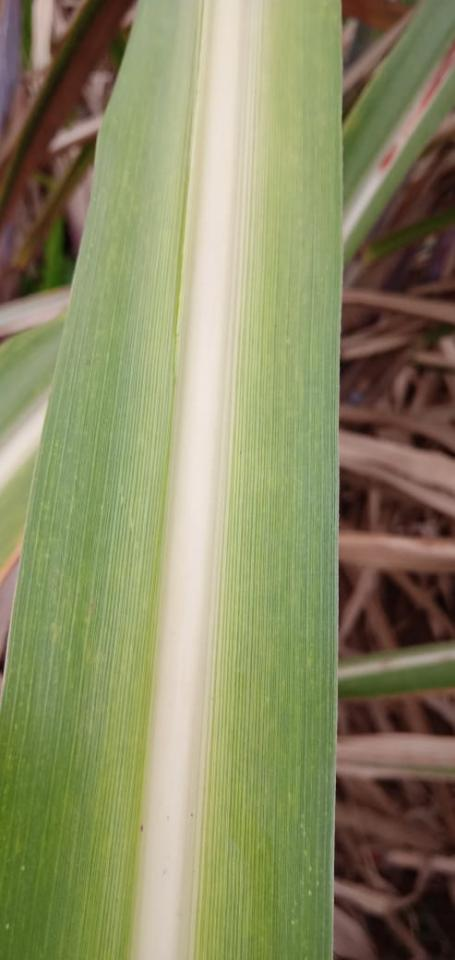RedRot: (408, 41, 454, 126), (377, 142, 400, 172)
Rust: (139, 823, 145, 834)
